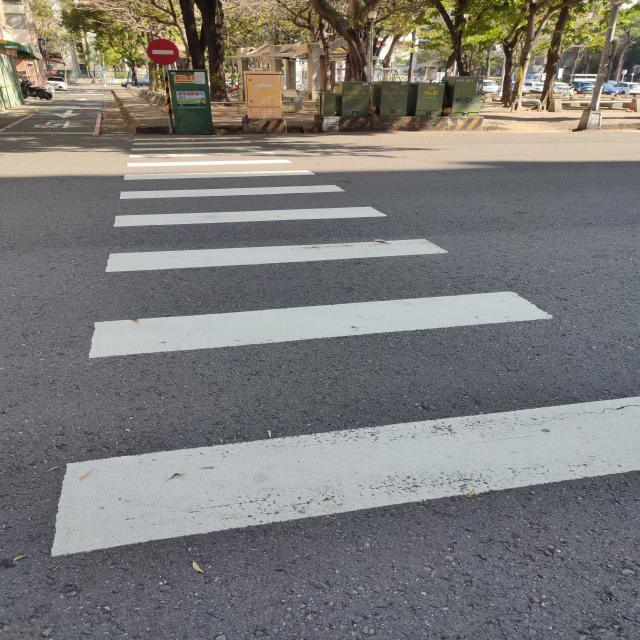zebra crossing: (64, 148, 640, 556)
